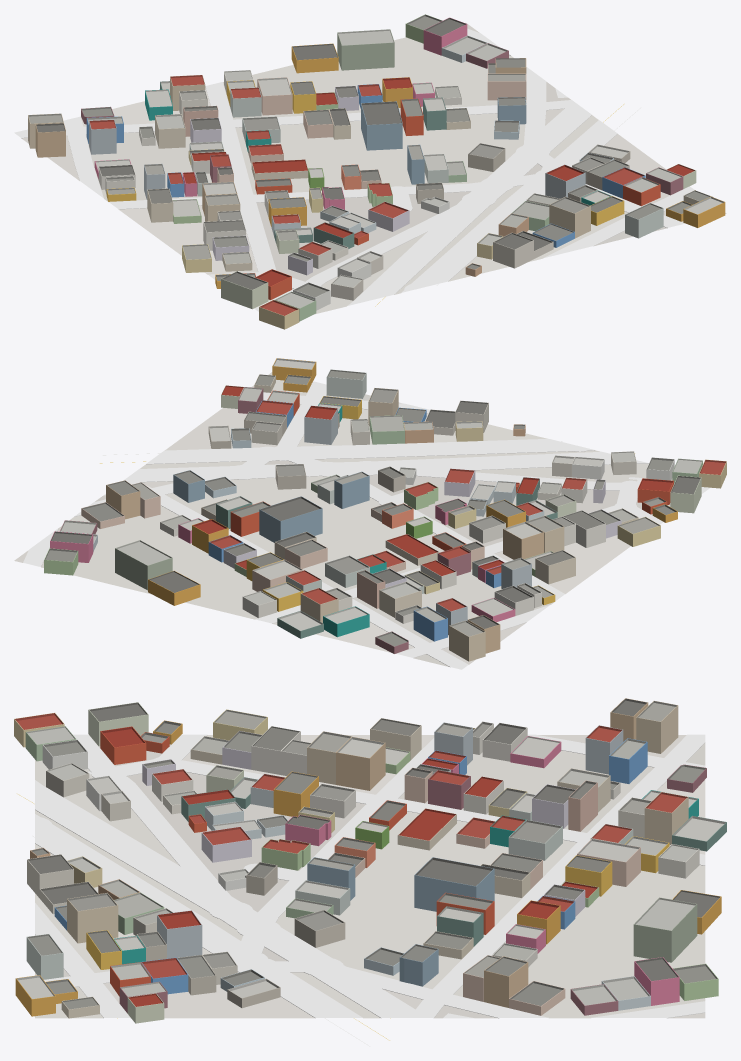
3 views of the same model, one above another, from view 1: azimuth 30°, elevation 25°; view 2: azimuth 150°, elevation 25°; view 3: azimuth 270°, elevation 25° (orthographic). The views are drawn at different scales.
Visible parts, largest first — view 1: walls, roofs, ground, sidewalk; view 2: walls, roofs, ground, sidewalk; view 3: walls, roofs, ground, sidewalk.
Boxes of the visible parts, left/top/right/bottom form: walls: left=28, top=24, right=725, bottom=329; roofs: left=28, top=14, right=724, bottom=316; ground: left=21, top=23, right=726, bottom=314; sidewalk: left=14, top=28, right=694, bottom=311; walls: left=44, top=362, right=726, bottom=661; roofs: left=44, top=358, right=726, bottom=646; ground: left=14, top=372, right=672, bottom=666; sidewalk: left=23, top=381, right=710, bottom=669; walls: left=14, top=703, right=726, bottom=1023; roofs: left=14, top=698, right=726, bottom=1009; ground: left=35, top=735, right=705, bottom=1018; sidewalk: left=35, top=734, right=705, bottom=1018.
Size of what is drawn, in the model's own units: 283 by 13.39 by 266.
